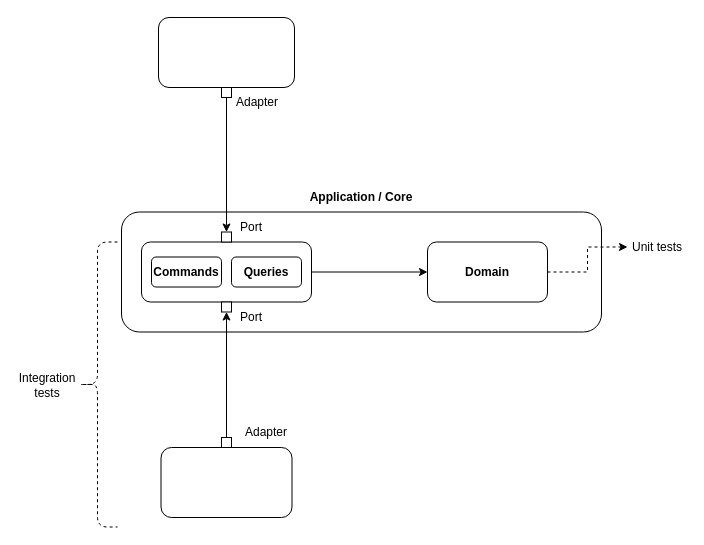
Image size: 704x545. Some labels were removed from this diagram. Each missing label, with the centre of its shape:
"Driven (Database, Cache, external API, Message Publisher, etc..)" belongs at [226,482].
"Driving (REST, GraphQL, gRPC, Message Consumer, etc.)" belongs at [226,52].
